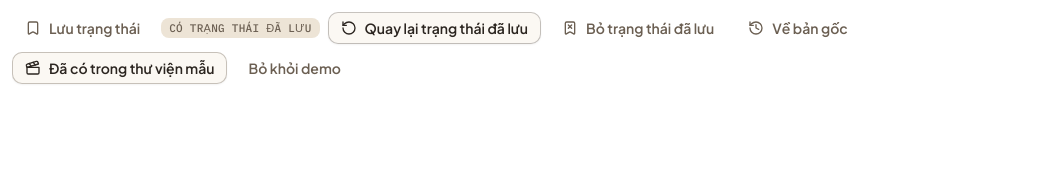
Test case: Reviewer gỡ mẫu công khai mà không bỏ trạng thái đã lưu của dự án
Click the button "Bỏ khỏi demo" at [295, 68], box [236,52,354,84]
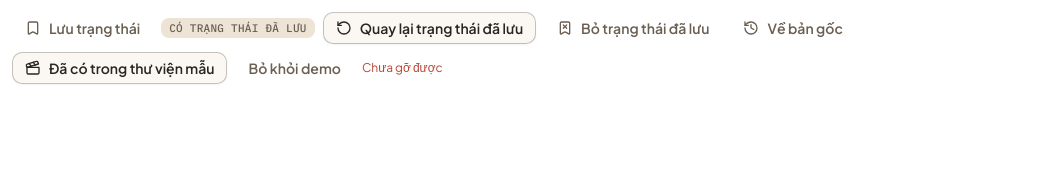
Expected: the link "Đã có trong thư viện mẫu" is shown, [12,52,228,84]
Expected: the message reads "Chưa gỡ được", [362,60,443,75]
Click the button "Bỏ khỏi demo" at [295, 68], box [236,52,354,84]
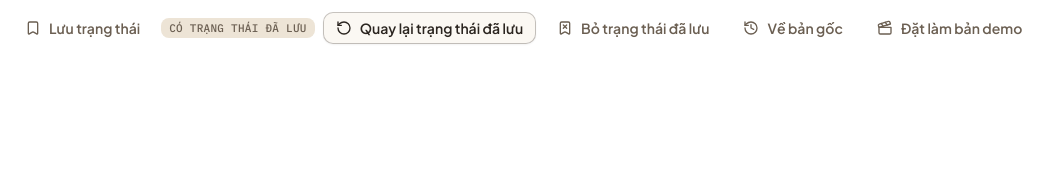
Expected: the text "Có trạng thái đã lưu" is shown, [161,18,315,38]
Expected: the button "Đặt làm bản demo" is shown, [864,12,1035,44]
